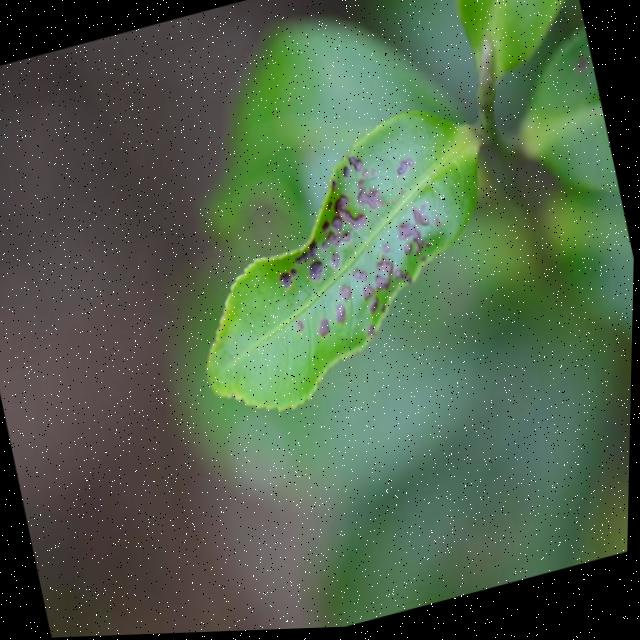Tea red scab: (269, 137, 485, 348)
